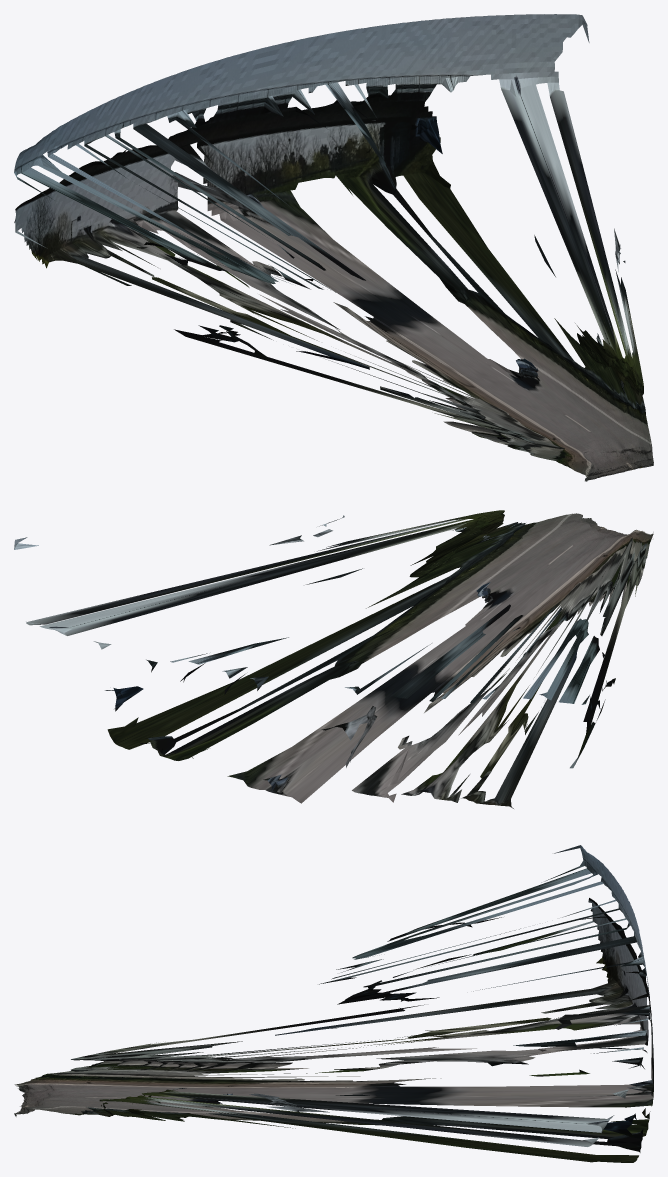
3 views of the same model, one above another, from view 1: azimuth 30°, elevation 25°; view 2: azimuth 150°, elevation 25°; view 3: azimuth 270°, elevation 25° (orthographic). The views are drawn at different scales.
Parts seen in each view (by area): view 1: defaultobject; view 2: defaultobject; view 3: defaultobject.
Part boxes in pixels (box(x1,y1,x2,y2)): defaultobject: box(14, 14, 653, 481); defaultobject: box(14, 510, 653, 808); defaultobject: box(14, 845, 653, 1162).
Size of the model in its own units: 40.45 by 11.95 by 44.73.
1 material, 1 textured.
